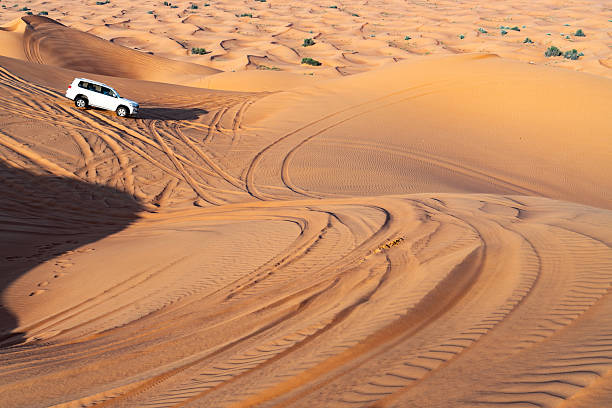vehicle_track: (0, 72, 611, 406), (0, 195, 611, 405), (0, 68, 245, 204), (245, 84, 431, 199), (350, 140, 536, 194), (151, 126, 219, 204), (172, 125, 244, 190)
